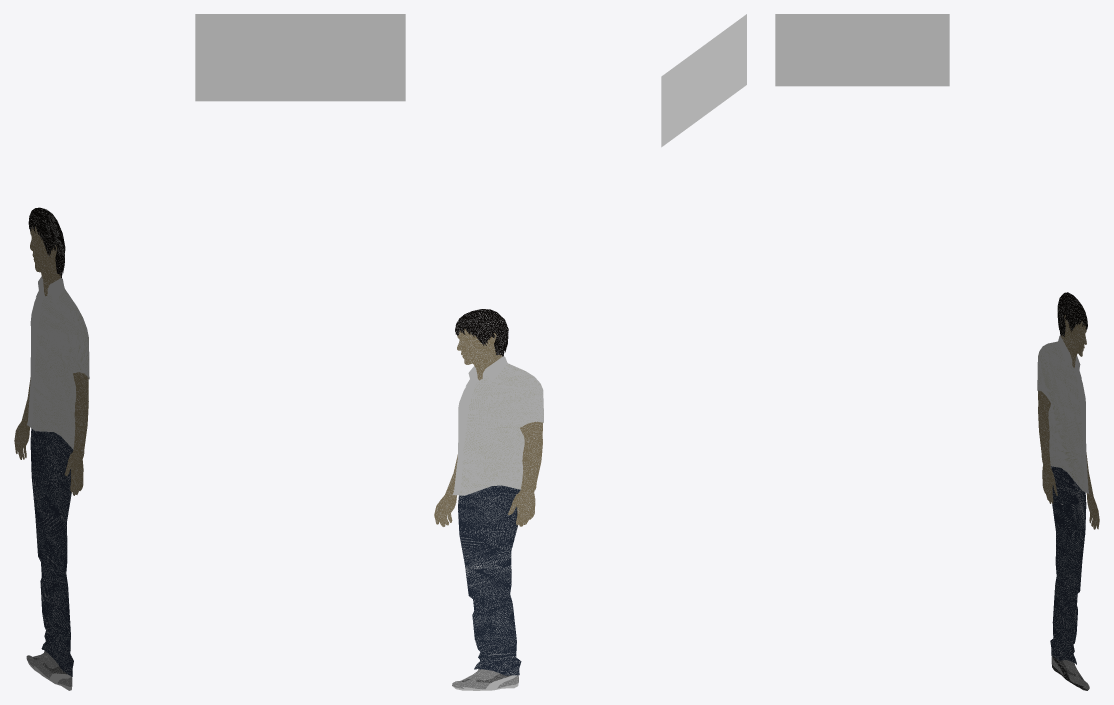
File: no_authoring_tool_tag.dae
3 renders of one model, left to right at view 1: azimuth 90°, elevation 25°; view 2: azimuth 150°, elevation 25°; view 3: azimuth 270°, elevation 25°, orthographic. The views are drawn at different scales.
Parts seen in each view (by area): view 1: Sang (×7), SketchUp; view 2: Sang (×8), SketchUp; view 3: Sang (×6), SketchUp.
Boxes of the visible parts, x1,y1,x2,y2 form: Sang (×7): (14, 207, 89, 676); SketchUp: (195, 14, 405, 101); Sang (×8): (434, 309, 543, 689); SketchUp: (661, 14, 746, 147); Sang (×6): (1037, 292, 1089, 664); SketchUp: (775, 14, 949, 86).
Bounding box in the file's own units: 29.14 × 52.31 × 109.
